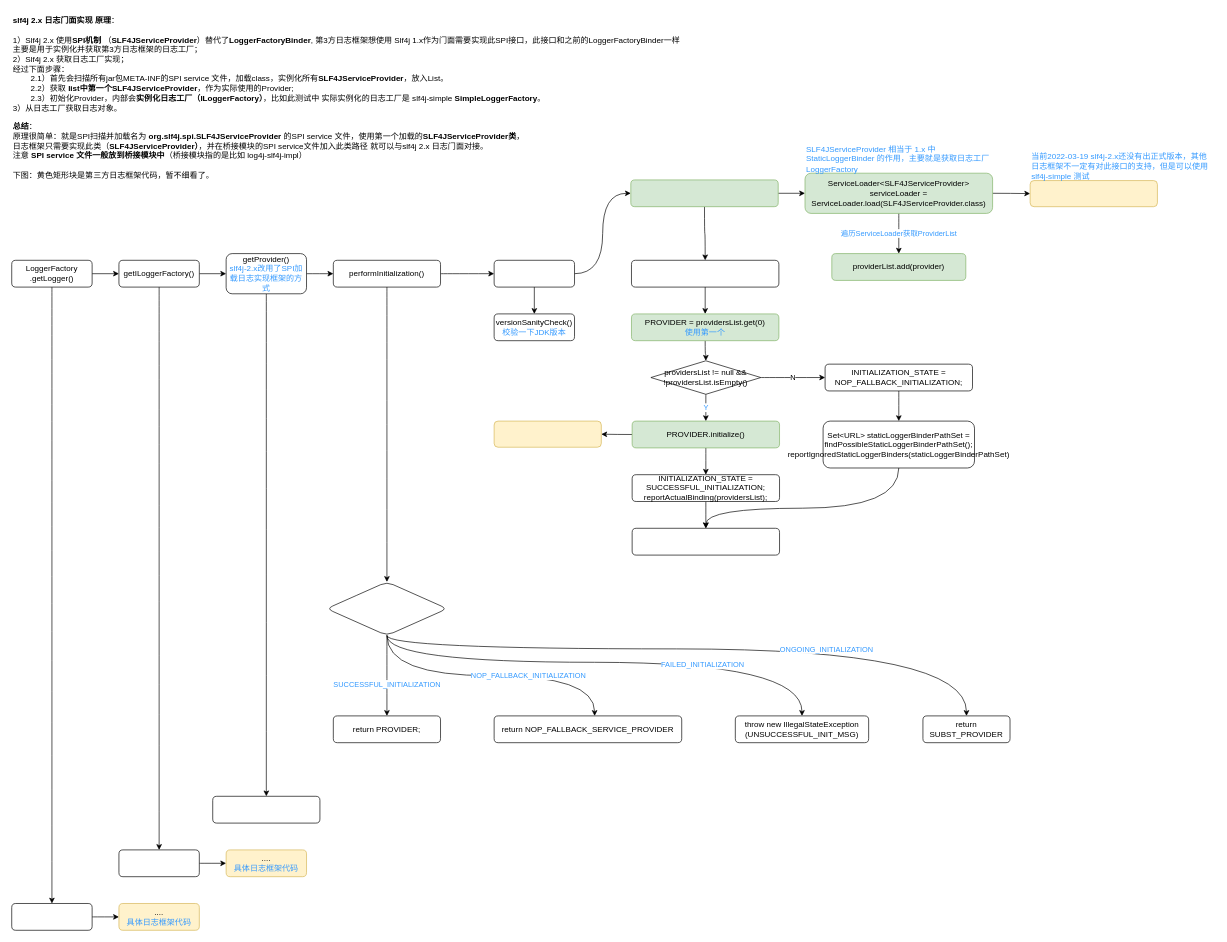
The diagram is 1227 pixels wide and 942 high, and some of its shapes have lost their labels. Each missing label, with the centre of its shape:
bind(): (x=534, y=273)
getLoggerFactory() 这里获取的就是具体日志框架的LoggerFactory: (x=266, y=809)
iLoggerFactory .getLogger(): (x=158, y=863)
INITIALIZATION_STATE: (x=386, y=608)
logger.info(): (x=51, y=916)
postBindCleanUp(): (x=705, y=541)
providersList = findServiceProviders() 之前1.x是类加载器扫描类路径，2.x改为SPI机制扫描: (x=704, y=193)
reportMultipleBindingAmbiguity() 如果扫描到多个StaticLoggerBinder.class就打印一下日志，报告下: (x=705, y=273)
日志框架初始化: (x=547, y=433)
日志框架需要实现此接口，使用时在META-INF中引入具体实现类: (x=1093, y=193)
